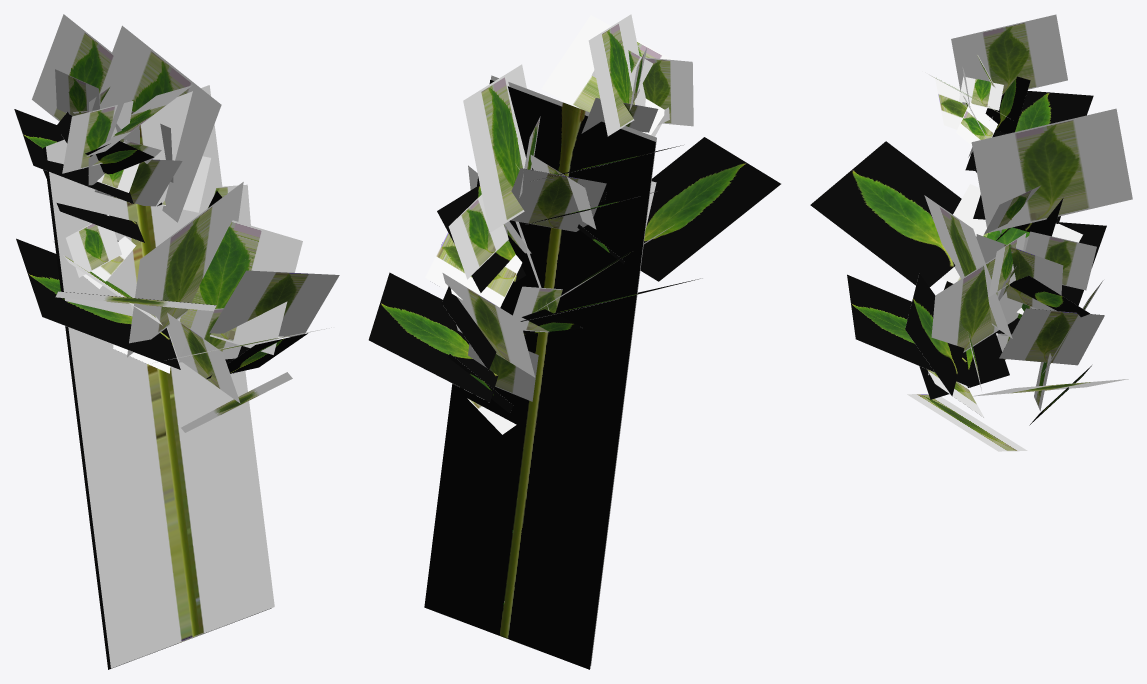
File: leaf1.fbx
3 renders of one model, left to right at view 1: azimuth 30°, elevation 25°; view 2: azimuth 150°, elevation 25°; view 3: azimuth 270°, elevation 25°, orthographic. The views are drawn at different scales.
Parts seen in each view (by area): view 1: pPlane1, pasted__pasted__pasted__pPlane1 (×6), pasted__pasted__pasted__pasted__pPlane1 (×4), pasted__pasted__pPlane1 (×3), pasted__pasted__group1 (×4), pasted__group1, pasted__pasted__pasted__group1 (×3), pasted__pPlane1, pasted__pasted__pasted__pasted__group1 (×2), group1, pasted__pasted__pasted__pasted__pasted__pPlane1; view 2: pasted__pPlane1 (×2), pasted__pasted__pPlane1 (×4), group1, pasted__group1 (×2), pasted__pasted__group1 (×3), pasted__pasted__pasted__group1 (×4), pasted__pasted__pasted__pPlane1, pasted__pasted__pasted__pasted__pPlane1, pPlane1; view 3: pasted__pasted__pPlane1, pasted__pasted__group1 (×6), pasted__pasted__pasted__pPlane1 (×4), group1, pasted__pasted__pasted__group1 (×4), pasted__pasted__pasted__pasted__pPlane1 (×3), pasted__group1 (×3), pasted__pPlane1, pasted__pasted__pasted__pasted__pasted__pPlane1, pasted__pasted__pasted__pasted__group1.
Boxes of the visible parts, box(x1,y1,x2,y2) form: pPlane1: box(46, 85, 274, 668); pasted__pasted__pasted__pPlane1 (×6): box(32, 14, 250, 357); pasted__pasted__pasted__pasted__pPlane1 (×4): box(55, 69, 302, 354); pasted__pasted__pPlane1 (×3): box(62, 25, 241, 362); pasted__pasted__group1 (×4): box(14, 109, 339, 432); pasted__group1: box(16, 238, 180, 369); pasted__pasted__pasted__group1 (×3): box(94, 159, 307, 403); pasted__pPlane1: box(43, 147, 271, 669); pasted__pasted__pasted__pasted__group1 (×2): box(55, 141, 154, 288); group1: box(55, 291, 216, 311); pasted__pasted__pasted__pasted__pasted__pPlane1: box(97, 163, 139, 192); pasted__pPlane1 (×2): box(424, 80, 655, 669); pasted__pasted__pPlane1 (×4): box(463, 57, 693, 401); group1: box(640, 137, 780, 281); pasted__group1 (×2): box(368, 185, 525, 402); pasted__pasted__group1 (×3): box(425, 168, 606, 377); pasted__pasted__pasted__group1 (×4): box(441, 98, 658, 370); pasted__pasted__pasted__pPlane1: box(588, 14, 645, 136); pasted__pasted__pasted__pasted__pPlane1: box(541, 15, 693, 135); pPlane1: box(491, 75, 656, 665); pasted__pasted__pPlane1: box(971, 108, 1132, 232); pasted__pasted__group1 (×6): box(847, 91, 1093, 451); pasted__pasted__pasted__pPlane1 (×4): box(924, 14, 1082, 338); group1: box(810, 141, 961, 286); pasted__pasted__pasted__group1 (×4): box(919, 76, 1104, 417); pasted__pasted__pasted__pasted__pPlane1 (×3): box(928, 102, 1040, 375); pasted__group1 (×3): box(944, 222, 1128, 396); pasted__pPlane1: box(1025, 231, 1096, 290); pasted__pasted__pasted__pasted__pasted__pPlane1: box(959, 76, 1003, 110); pasted__pasted__pasted__pasted__group1: box(935, 79, 975, 129).
Size of the model in its own units: 6.73 by 13.05 by 6.44.
90 materials, 90 textured.
